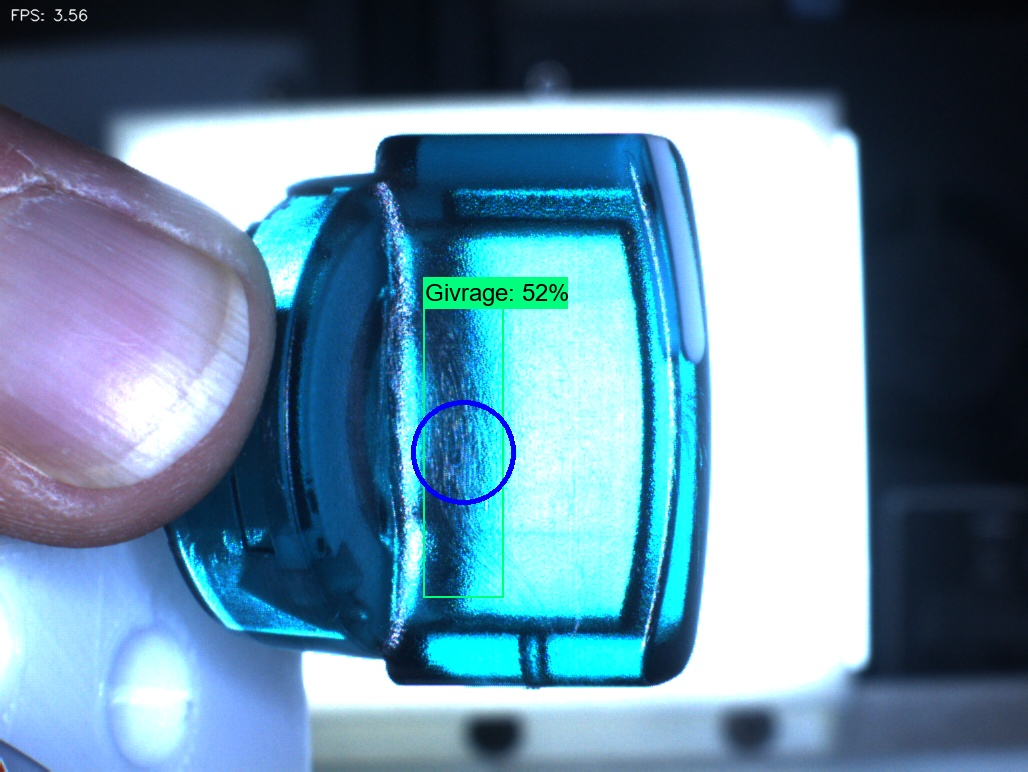Bulle: (495, 599, 576, 705)
